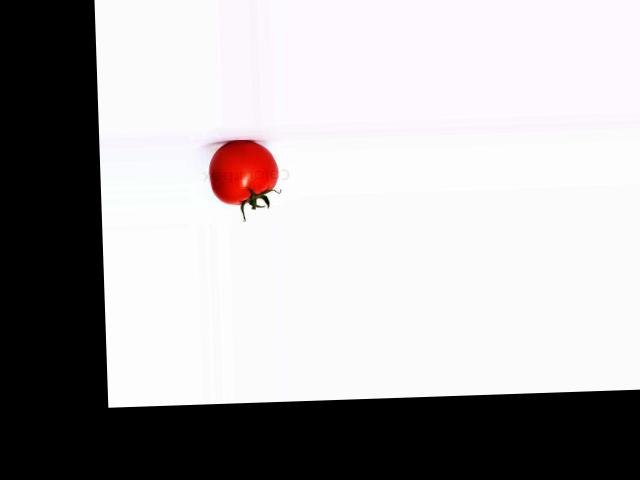tomato: (207, 140, 278, 205)
